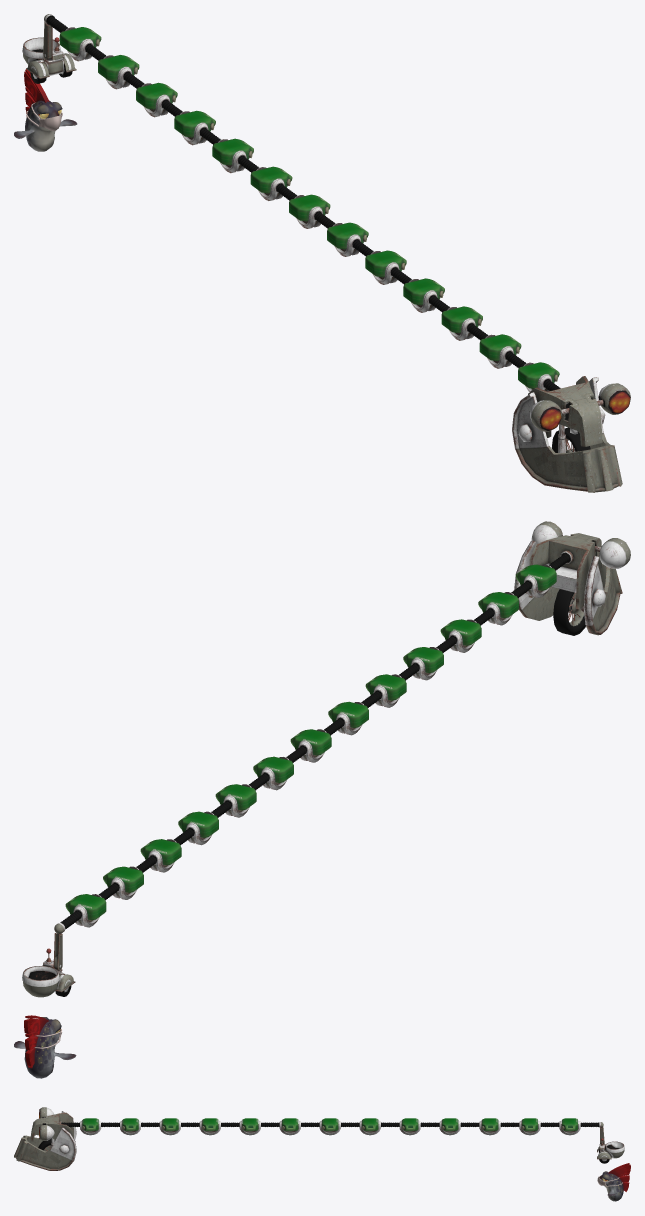
3 views of the same model, one above another, from view 1: azimuth 30°, elevation 25°; view 2: azimuth 150°, elevation 25°; view 3: azimuth 270°, elevation 25° (orthographic). The views are drawn at different scales.
Parts seen in each view (by area): view 1: BothEye_Model_1__M_CoopSalmonSnake_Head, Salmon_Model2__M_CoopSalmonSnake_Tail01, Machine_Model__M_CoopSalmonSnake_Tail00, Cap_Model__M_CoopSalmonSnake_Body, Cap_Model__M_CoopSalmonSnake_Body.003, Cap_Model__M_CoopSalmonSnake_Body.011, Cap_Model__M_CoopSalmonSnake_Body.004, Cap_Model__M_CoopSalmonSnake_Body.002, Cap_Model__M_CoopSalmonSnake_Body.010, Cap_Model__M_CoopSalmonSnake_Body.005, Cap_Model__M_CoopSalmonSnake_Body.007, Cap_Model__M_CoopSalmonSnake_Body.008 (+4 smaller); view 2: BothEye_Model_1__M_CoopSalmonSnake_Head, Salmon_Model2__M_CoopSalmonSnake_Tail01, Machine_Model__M_CoopSalmonSnake_Tail00, Cap_Model__M_CoopSalmonSnake_Body.004, Cap_Model__M_CoopSalmonSnake_Body.002, Cap_Model__M_CoopSalmonSnake_Body.012, Cap_Model__M_CoopSalmonSnake_Body.006, Cap_Model__M_CoopSalmonSnake_Body.008, Cap_Model__M_CoopSalmonSnake_Body.010, Cap_Model__M_CoopSalmonSnake_Body, Cap_Model__M_CoopSalmonSnake_Body.001, Cap_Model__M_CoopSalmonSnake_Body.003 (+4 smaller); view 3: BothEye_Model_1__M_CoopSalmonSnake_Head, Salmon_Model2__M_CoopSalmonSnake_Tail01, Machine_Model__M_CoopSalmonSnake_Tail00, Cap_Model__M_CoopSalmonSnake_Body.010, Cap_Model__M_CoopSalmonSnake_Body.009, Cap_Model__M_CoopSalmonSnake_Body.001, Cap_Model__M_CoopSalmonSnake_Body.008, Cap_Model__M_CoopSalmonSnake_Body, Cap_Model__M_CoopSalmonSnake_Body.003, Cap_Model__M_CoopSalmonSnake_Body.006, Cap_Model__M_CoopSalmonSnake_Body.007, Cap_Model__M_CoopSalmonSnake_Body.011 (+4 smaller).
Boxes of the visible parts, bbox=[...] form: BothEye_Model_1__M_CoopSalmonSnake_Head: bbox=[512, 376, 630, 492]; Salmon_Model2__M_CoopSalmonSnake_Tail01: bbox=[14, 69, 77, 151]; Machine_Model__M_CoopSalmonSnake_Tail00: bbox=[22, 14, 76, 83]; Cap_Model__M_CoopSalmonSnake_Body: bbox=[59, 27, 105, 61]; Cap_Model__M_CoopSalmonSnake_Body.003: bbox=[174, 110, 220, 145]; Cap_Model__M_CoopSalmonSnake_Body.011: bbox=[479, 334, 526, 368]; Cap_Model__M_CoopSalmonSnake_Body.004: bbox=[212, 138, 258, 173]; Cap_Model__M_CoopSalmonSnake_Body.002: bbox=[136, 82, 182, 117]; Cap_Model__M_CoopSalmonSnake_Body.010: bbox=[441, 306, 488, 340]; Cap_Model__M_CoopSalmonSnake_Body.005: bbox=[250, 166, 297, 200]; Cap_Model__M_CoopSalmonSnake_Body.007: bbox=[327, 222, 373, 256]; Cap_Model__M_CoopSalmonSnake_Body.008: bbox=[365, 250, 411, 284]; BothEye_Model_1__M_CoopSalmonSnake_Head: bbox=[514, 521, 630, 635]; Salmon_Model2__M_CoopSalmonSnake_Tail01: bbox=[14, 1015, 76, 1078]; Machine_Model__M_CoopSalmonSnake_Tail00: bbox=[22, 911, 81, 997]; Cap_Model__M_CoopSalmonSnake_Body.004: bbox=[215, 773, 269, 817]; Cap_Model__M_CoopSalmonSnake_Body.002: bbox=[140, 828, 194, 872]; Cap_Model__M_CoopSalmonSnake_Body.012: bbox=[515, 554, 569, 597]; Cap_Model__M_CoopSalmonSnake_Body.006: bbox=[290, 719, 344, 762]; Cap_Model__M_CoopSalmonSnake_Body.008: bbox=[365, 664, 419, 707]; Cap_Model__M_CoopSalmonSnake_Body.010: bbox=[440, 609, 494, 652]; Cap_Model__M_CoopSalmonSnake_Body: bbox=[65, 883, 118, 927]; Cap_Model__M_CoopSalmonSnake_Body.001: bbox=[103, 856, 156, 899]; Cap_Model__M_CoopSalmonSnake_Body.003: bbox=[178, 801, 231, 845]; BothEye_Model_1__M_CoopSalmonSnake_Head: bbox=[14, 1107, 76, 1170]; Salmon_Model2__M_CoopSalmonSnake_Tail01: bbox=[597, 1163, 630, 1201]; Machine_Model__M_CoopSalmonSnake_Tail00: bbox=[580, 1122, 624, 1163]; Cap_Model__M_CoopSalmonSnake_Body.010: bbox=[141, 1118, 180, 1135]; Cap_Model__M_CoopSalmonSnake_Body.009: bbox=[181, 1118, 220, 1135]; Cap_Model__M_CoopSalmonSnake_Body.001: bbox=[500, 1118, 540, 1135]; Cap_Model__M_CoopSalmonSnake_Body.008: bbox=[221, 1118, 260, 1135]; Cap_Model__M_CoopSalmonSnake_Body: bbox=[540, 1118, 580, 1135]; Cap_Model__M_CoopSalmonSnake_Body.003: bbox=[420, 1118, 460, 1135]; Cap_Model__M_CoopSalmonSnake_Body.006: bbox=[301, 1118, 340, 1135]; Cap_Model__M_CoopSalmonSnake_Body.007: bbox=[261, 1118, 300, 1135]; Cap_Model__M_CoopSalmonSnake_Body.011: bbox=[101, 1118, 140, 1135].
Size of the model in its own units: 3.8 by 6 by 40.62.
16 materials, 16 textured.
